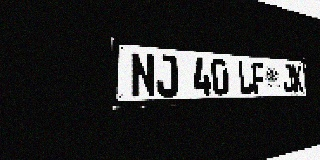0: (211, 58, 229, 95)
4: (193, 57, 212, 96)
F: (251, 62, 266, 94)
J: (155, 54, 179, 97), (282, 64, 294, 93)
K: (292, 65, 304, 92)
L: (237, 60, 253, 94)
N: (130, 52, 156, 98)
